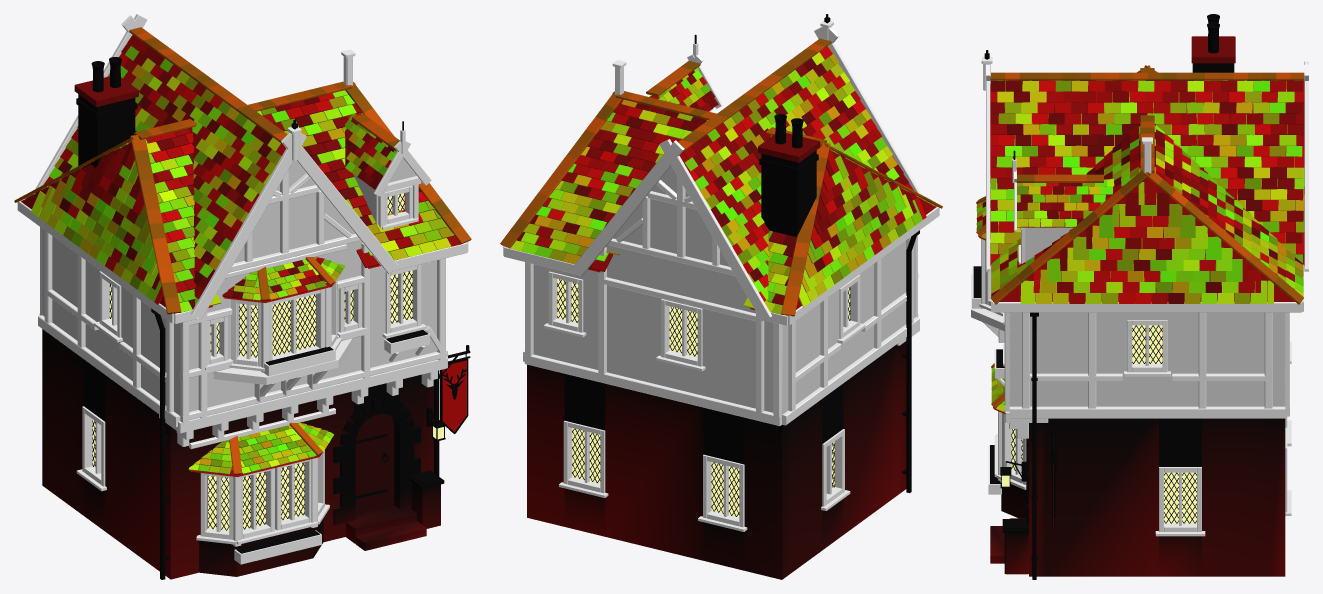
The model's file is SilverbrookTownhouse6.fbx.
The picture shows the model from 3 angles, left to right: view 1: azimuth 30°, elevation 25°; view 2: azimuth 150°, elevation 25°; view 3: azimuth 270°, elevation 25°; orthographic projection. The views are drawn at different scales.
Visible parts, largest first — view 1: SM_SBTownhouse6_Roof, SM_SBTownhouse6_Timber, SM_SBTownhouse6_Masonry, SM_SBTownhouse6_Plaster, SM_SBTownhouse6_Details; view 2: SM_SBTownhouse6_Masonry, SM_SBTownhouse6_Roof, SM_SBTownhouse6_Timber, SM_SBTownhouse6_Plaster, SM_SBTownhouse6_Details; view 3: SM_SBTownhouse6_Roof, SM_SBTownhouse6_Masonry, SM_SBTownhouse6_Timber, SM_SBTownhouse6_Plaster, SM_SBTownhouse6_Details.
Part boxes in pixels (x1,y1,x2,y2): SM_SBTownhouse6_Roof: (14,27,471,476); SM_SBTownhouse6_Timber: (17,14,468,564); SM_SBTownhouse6_Masonry: (42,76,444,579); SM_SBTownhouse6_Plaster: (42,158,436,415); SM_SBTownhouse6_Details: (91,57,470,579); SM_SBTownhouse6_Masonry: (527,133,906,579); SM_SBTownhouse6_Roof: (500,38,942,316); SM_SBTownhouse6_Timber: (503,20,939,531); SM_SBTownhouse6_Plaster: (533,110,915,414); SM_SBTownhouse6_Details: (557,14,919,517); SM_SBTownhouse6_Roof: (976,65,1304,413); SM_SBTownhouse6_Masonry: (990,36,1285,576); SM_SBTownhouse6_Timber: (971,56,1308,536); SM_SBTownhouse6_Plaster: (1009,220,1285,406); SM_SBTownhouse6_Details: (973,14,1219,579).
Size of the model in its own units: 694 by 897 by 613.
